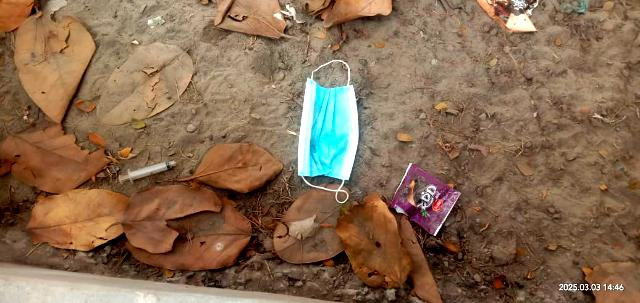mask: (300, 72, 361, 187)
